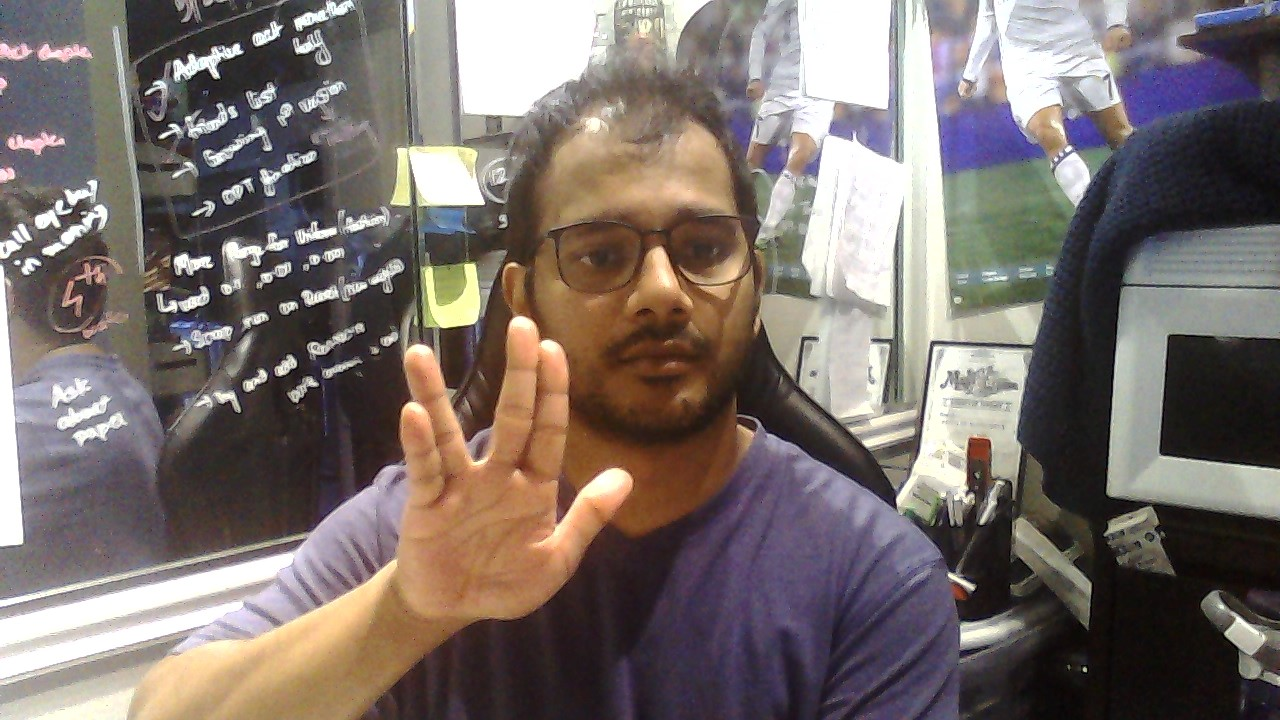LiveLong: (399, 316, 634, 620)
